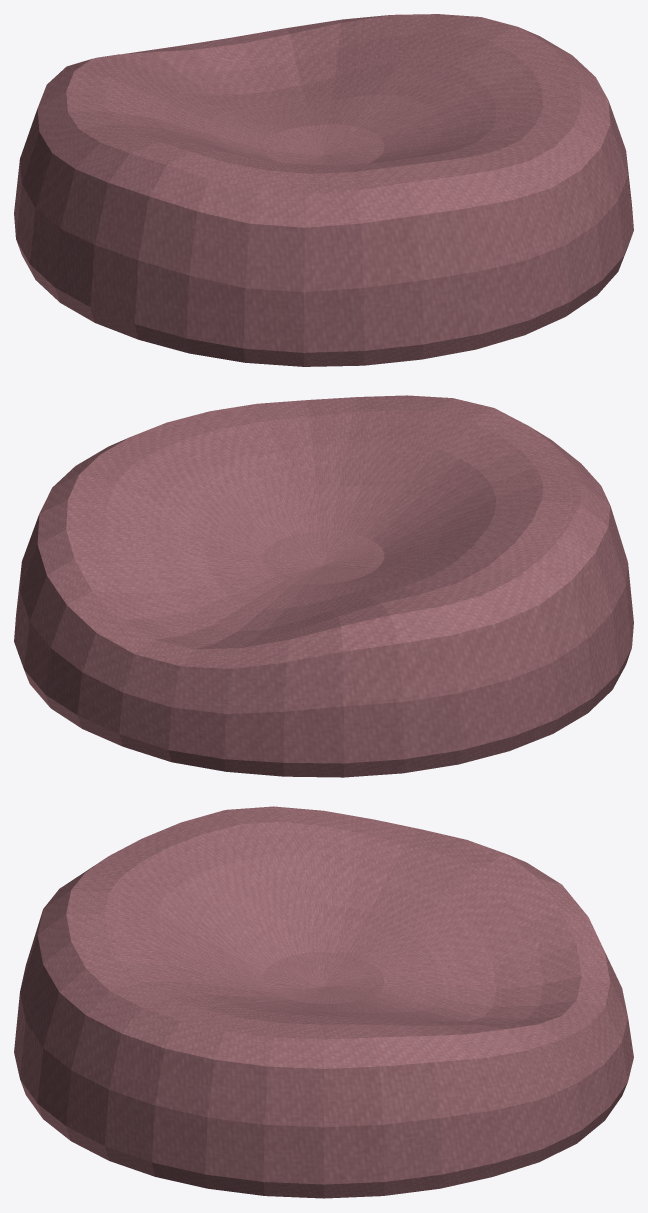
File: BagchairV1.gltf
The picture shows the model from 3 angles, top to bottom: view 1: azimuth 30°, elevation 25°; view 2: azimuth 150°, elevation 25°; view 3: azimuth 270°, elevation 25°; orthographic projection.
Visible parts, largest first — view 1: Sphere; view 2: Sphere; view 3: Sphere.
Boxes of the visible parts, x1=… form: Sphere: x1=14, y1=14, x2=633, y2=366; Sphere: x1=14, y1=395, x2=633, y2=777; Sphere: x1=14, y1=806, x2=633, y2=1198.
Bounding box in the file's own units: 1 × 0.2891 × 1.
Materials: 1 (1 with a texture image).
